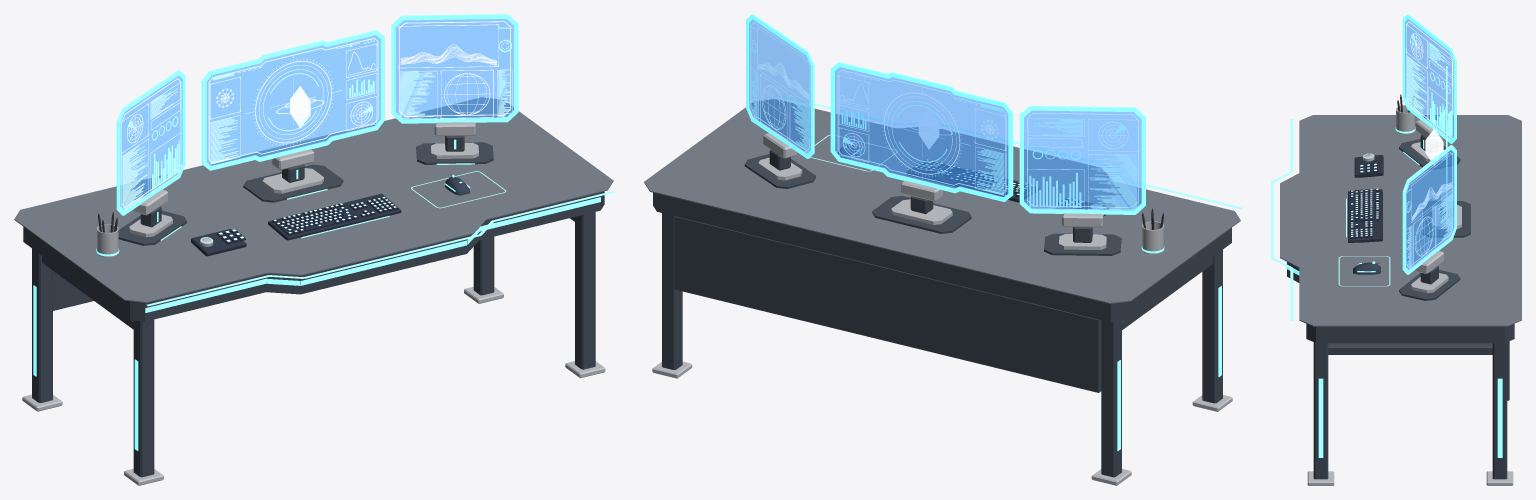
The model's file is Synthesis Machine Monitor and desk.glb.
3 renders of one model, left to right at view 1: azimuth 30°, elevation 25°; view 2: azimuth 150°, elevation 25°; view 3: azimuth 270°, elevation 25°, orthographic. The views are drawn at different scales.
Parts seen in each view (by area): view 1: Desk_TopPlate, Monitor_Center_Plate, Monitor_Right_Plate, Desk_Body, Monitor_Left_Plate, Desk_Leg_RF, Desk_Leg_LF, Monitor_Center_Frame, Desk_Leg_LB, Monitor_Right_Frame, Monitor_Right_UiLines, Monitor_Center_UiLines (+20 smaller); view 2: Desk_TopPlate, Desk_BackPanel, Monitor_Center_Plate, Monitor_Left_Plate, Desk_Body, Monitor_Right_Plate, Monitor_Center_Frame, Desk_Leg_LB, Desk_Leg_LF, Desk_Leg_RB, Monitor_Left_UiText, Monitor_Left_Frame (+16 smaller); view 3: Desk_TopPlate, Monitor_Right_Plate, Desk_Body, Monitor_Left_Plate, Desk_Stretcher_R, Desk_Leg_RF, Desk_Leg_RB, Keyboard_Keys, Monitor_Left_Frame, Monitor_Right_Frame, Monitor_Left_UiText, Keyboard_Chassis (+19 smaller).
Part boxes in pixels (x1=…): Desk_TopPlate: x1=14, y1=97, x2=613, y2=302; Monitor_Center_Plate: x1=206, y1=35, x2=380, y2=165; Monitor_Right_Plate: x1=395, y1=19, x2=513, y2=119; Desk_Body: x1=23, y1=191, x2=604, y2=321; Monitor_Left_Plate: x1=120, y1=75, x2=182, y2=208; Desk_Leg_RF: x1=575, y1=212, x2=595, y2=369; Desk_Leg_LF: x1=133, y1=319, x2=154, y2=477; Monitor_Center_Frame: x1=201, y1=30, x2=384, y2=170; Desk_Leg_LB: x1=32, y1=248, x2=52, y2=402; Monitor_Right_Frame: x1=391, y1=14, x2=518, y2=123; Monitor_Right_UiLines: x1=398, y1=24, x2=512, y2=118; Monitor_Center_UiLines: x1=209, y1=38, x2=377, y2=164; Desk_TopPlate: x1=644, y1=99, x2=1240, y2=303; Desk_BackPanel: x1=674, y1=216, x2=1101, y2=392; Monitor_Center_Plate: x1=835, y1=67, x2=1008, y2=197; Monitor_Left_Plate: x1=1024, y1=110, x2=1141, y2=210; Desk_Body: x1=653, y1=192, x2=1231, y2=322; Monitor_Right_Plate: x1=749, y1=19, x2=810, y2=153; Monitor_Center_Frame: x1=830, y1=62, x2=1013, y2=201; Desk_Leg_LB: x1=1101, y1=320, x2=1121, y2=477; Desk_Leg_LF: x1=1202, y1=249, x2=1222, y2=403; Desk_Leg_RB: x1=662, y1=213, x2=682, y2=369; Monitor_Left_UiText: x1=1033, y1=119, x2=1136, y2=209; Monitor_Left_Frame: x1=1019, y1=105, x2=1145, y2=214; Desk_TopPlate: x1=1280, y1=115, x2=1521, y2=326; Monitor_Right_Plate: x1=1406, y1=150, x2=1454, y2=269; Desk_Body: x1=1287, y1=262, x2=1514, y2=343; Monitor_Left_Plate: x1=1405, y1=19, x2=1453, y2=138; Desk_Stretcher_R: x1=1328, y1=343, x2=1492, y2=354; Desk_Leg_RF: x1=1313, y1=342, x2=1328, y2=479; Desk_Leg_RB: x1=1492, y1=342, x2=1507, y2=479; Keyboard_Keys: x1=1350, y1=188, x2=1379, y2=238; Monitor_Left_Frame: x1=1402, y1=14, x2=1456, y2=143; Monitor_Right_Frame: x1=1402, y1=145, x2=1456, y2=274; Monitor_Left_UiText: x1=1406, y1=44, x2=1450, y2=116; Keyboard_Chassis: x1=1348, y1=189, x2=1382, y2=242.
Size of the model in its own units: 2.06 by 1.32 by 1.04.
